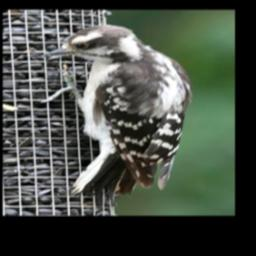Woodpecker: (38, 23, 192, 201)
